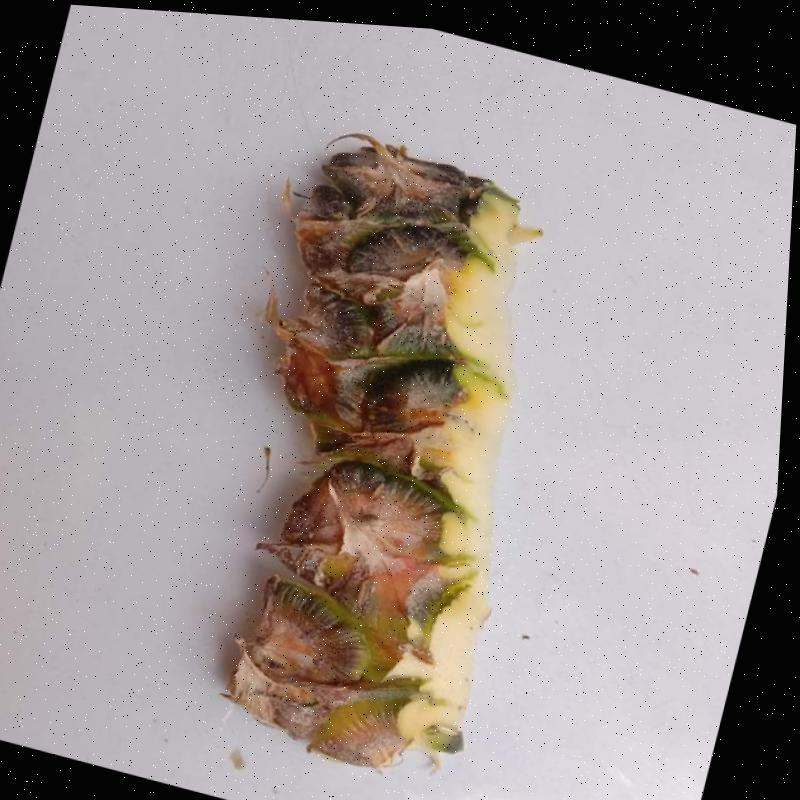fruit peels: (223, 133, 548, 773)
